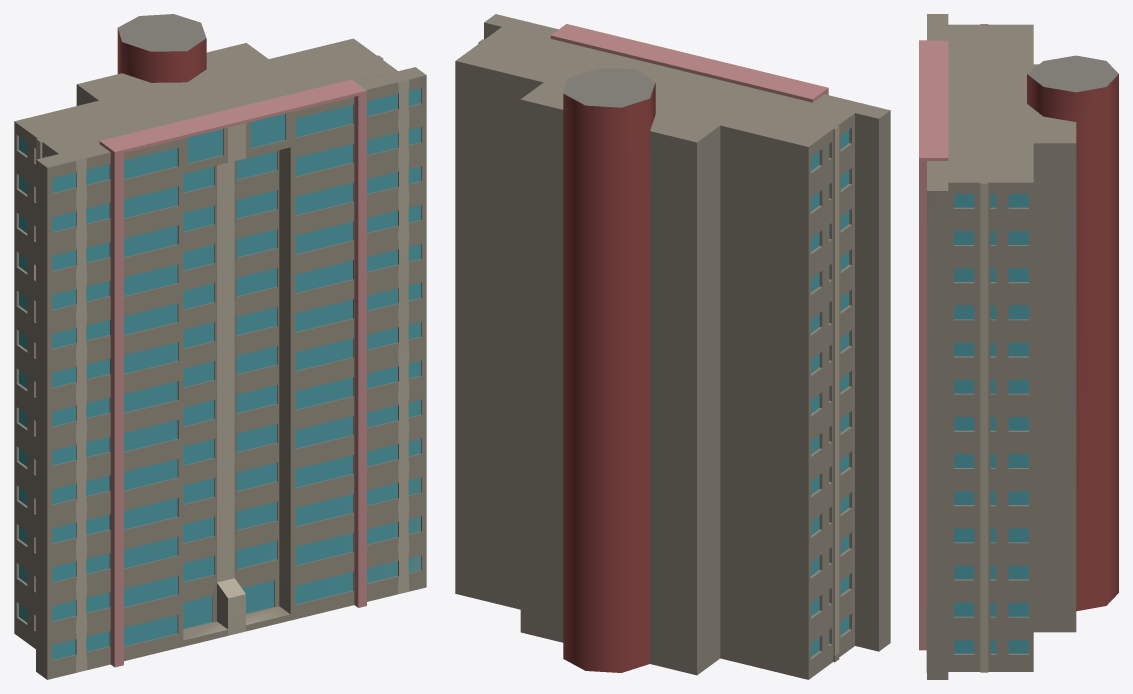
Rendered from Buiidling.fbx.
The picture shows the model from 3 angles, left to right: view 1: azimuth 30°, elevation 25°; view 2: azimuth 150°, elevation 25°; view 3: azimuth 270°, elevation 25°; orthographic projection. The views are drawn at different scales.
Parts seen in each view (by area): view 1: ResidentialBuilding; view 2: ResidentialBuilding; view 3: ResidentialBuilding.
Part boxes in pixels (left/top/right/bottom): ResidentialBuilding: left=14, top=14, right=426, bottom=679; ResidentialBuilding: left=455, top=14, right=890, bottom=679; ResidentialBuilding: left=919, top=14, right=1118, bottom=679.
Size of the model in its own units: 2774 by 3796 by 1325.
